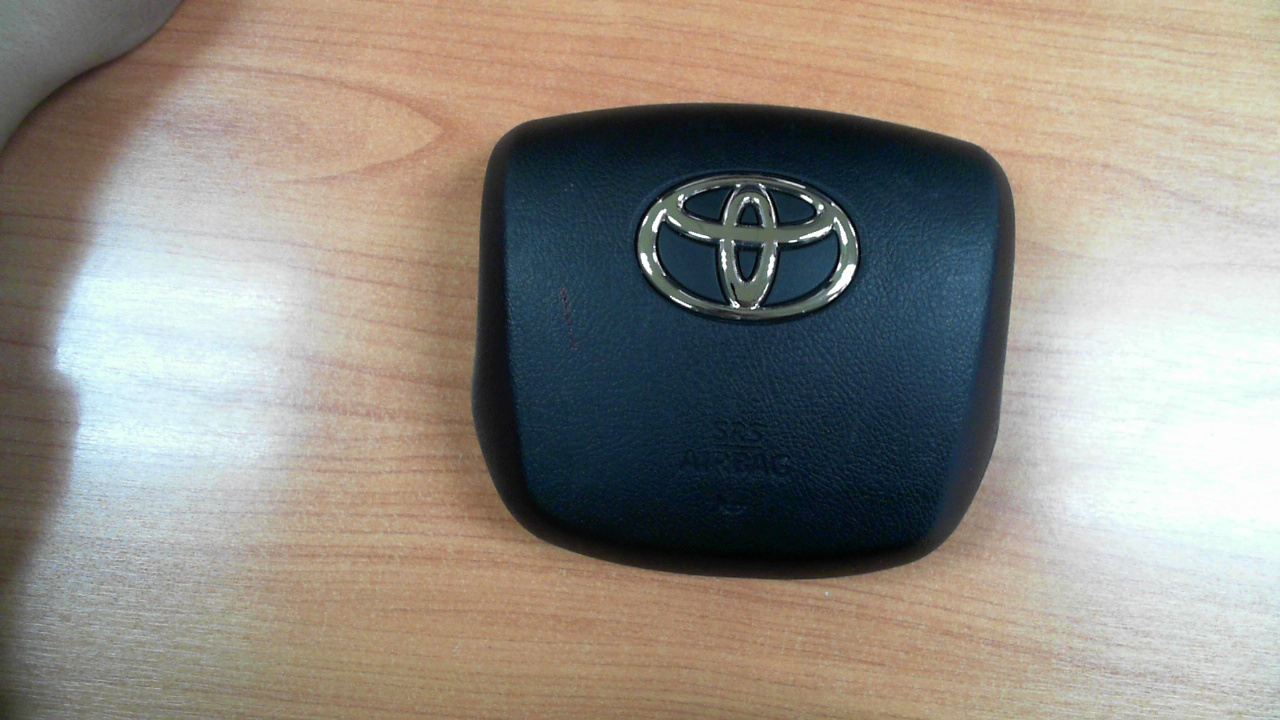Airbag: (469, 105, 1013, 580)
Toyota: (636, 176, 862, 325)
